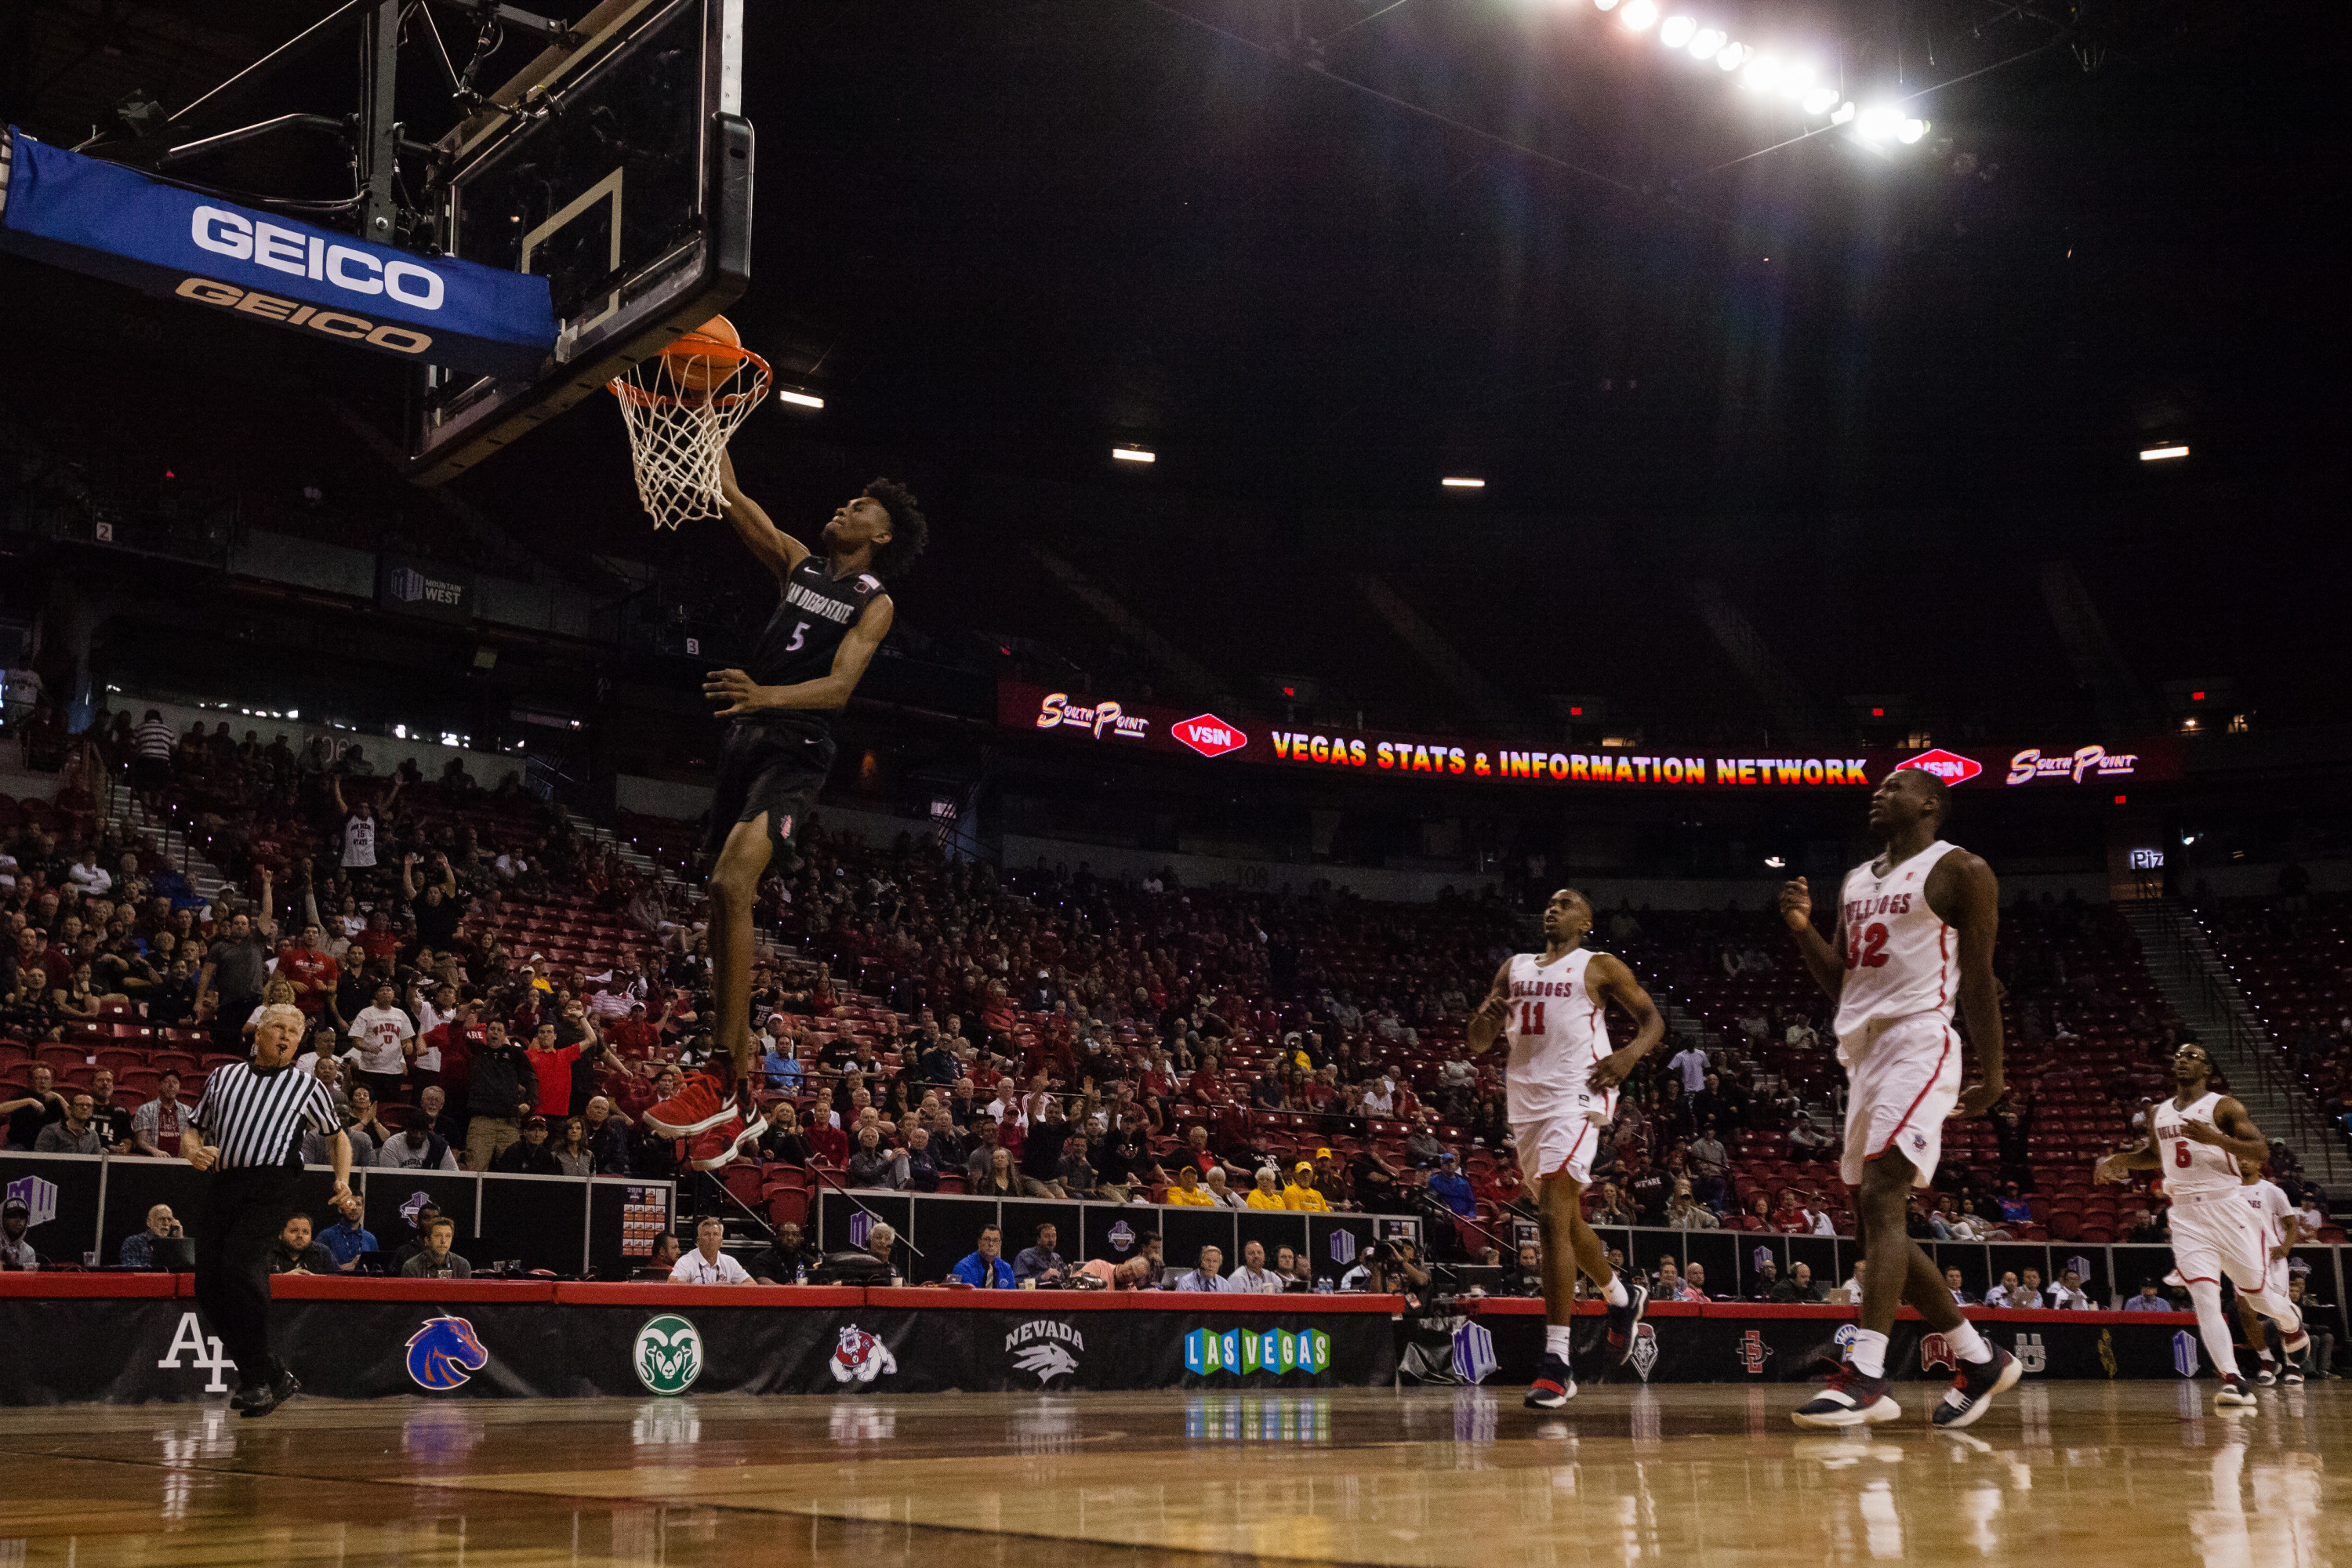geico: (187, 193, 488, 315)
